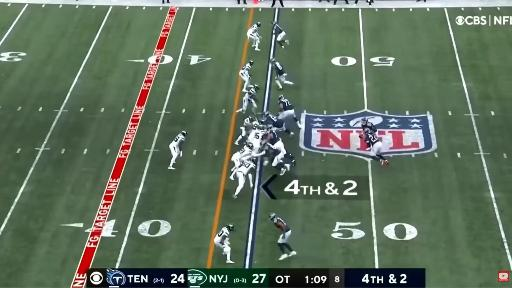Helmet: (226, 222, 235, 232), (246, 157, 256, 163), (181, 129, 188, 136), (270, 213, 277, 220), (361, 116, 367, 123), (364, 127, 370, 134), (278, 95, 285, 101), (249, 117, 257, 122), (265, 111, 271, 117), (254, 84, 260, 90), (248, 143, 255, 148), (248, 61, 254, 66), (259, 126, 266, 130), (271, 58, 275, 65), (267, 124, 271, 130), (271, 21, 277, 25), (257, 23, 260, 27)
Jersey: (248, 130, 266, 147), (238, 160, 255, 175), (365, 129, 380, 146), (273, 217, 290, 232), (266, 115, 284, 128), (236, 146, 252, 159), (217, 227, 229, 244), (266, 144, 281, 157), (267, 132, 281, 145), (279, 99, 294, 110), (362, 122, 377, 132), (173, 134, 185, 146), (244, 118, 258, 128), (245, 87, 256, 99), (274, 62, 284, 75), (274, 24, 283, 35), (242, 63, 251, 73), (250, 24, 258, 33)
Player: (270, 213, 296, 259), (363, 128, 388, 165), (262, 144, 291, 175), (233, 159, 255, 198), (230, 142, 253, 179), (278, 95, 301, 129), (214, 224, 234, 263), (168, 131, 187, 169), (235, 116, 259, 145), (263, 112, 293, 135), (271, 58, 293, 89), (266, 132, 286, 166), (236, 85, 259, 113), (248, 126, 267, 157), (272, 21, 289, 49), (239, 61, 253, 89), (247, 22, 261, 50), (361, 118, 377, 133), (361, 118, 377, 132), (243, 74, 251, 92)
